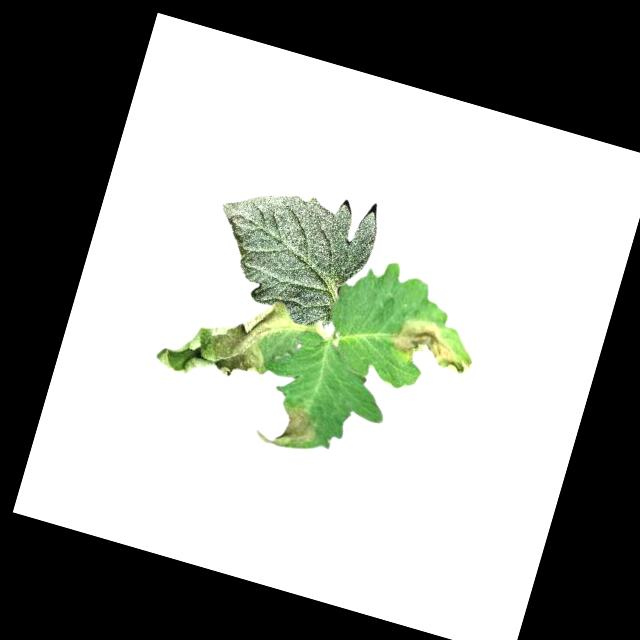Late_blight: (152, 270, 322, 407), (385, 308, 482, 376), (251, 397, 321, 456)
